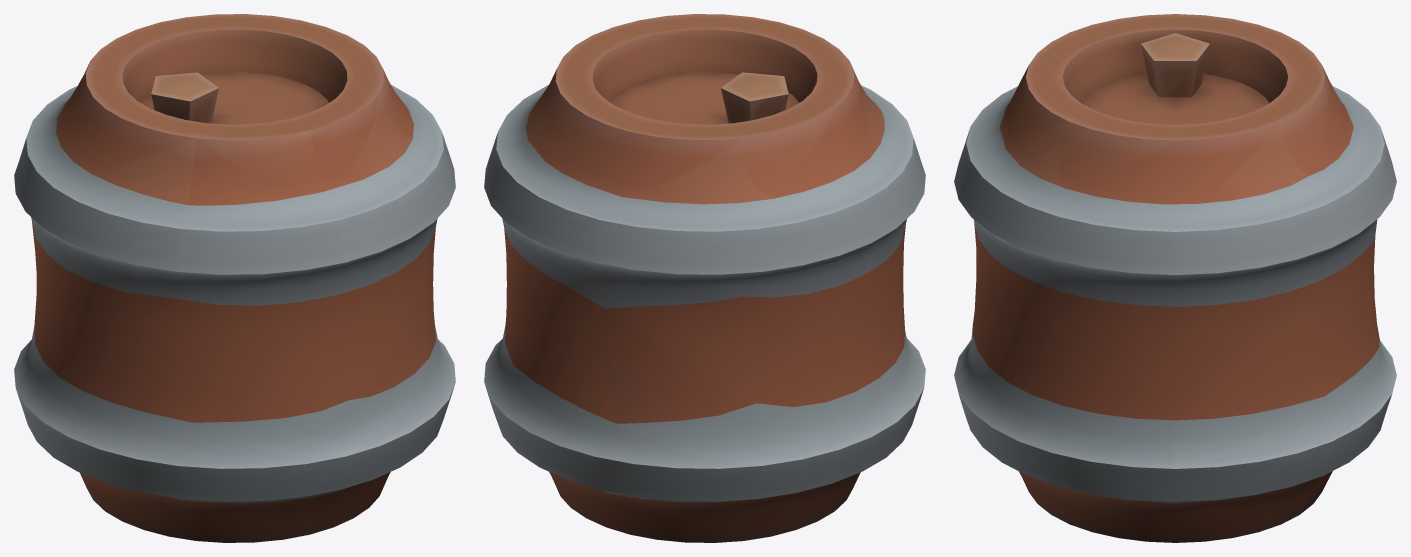
The model's file is prop_barrel_small.glb.
3 renders of one model, left to right at view 1: azimuth 30°, elevation 25°; view 2: azimuth 150°, elevation 25°; view 3: azimuth 270°, elevation 25°, orthographic.
Parts seen in each view (by area): view 1: prop_barrel_small; view 2: prop_barrel_small; view 3: prop_barrel_small.
Boxes of the visible parts, x1=… form: prop_barrel_small: x1=14, y1=14, x2=455, y2=542; prop_barrel_small: x1=484, y1=14, x2=925, y2=542; prop_barrel_small: x1=954, y1=14, x2=1396, y2=542.
Bounding box in the file's own units: 1 × 1.02 × 1.
